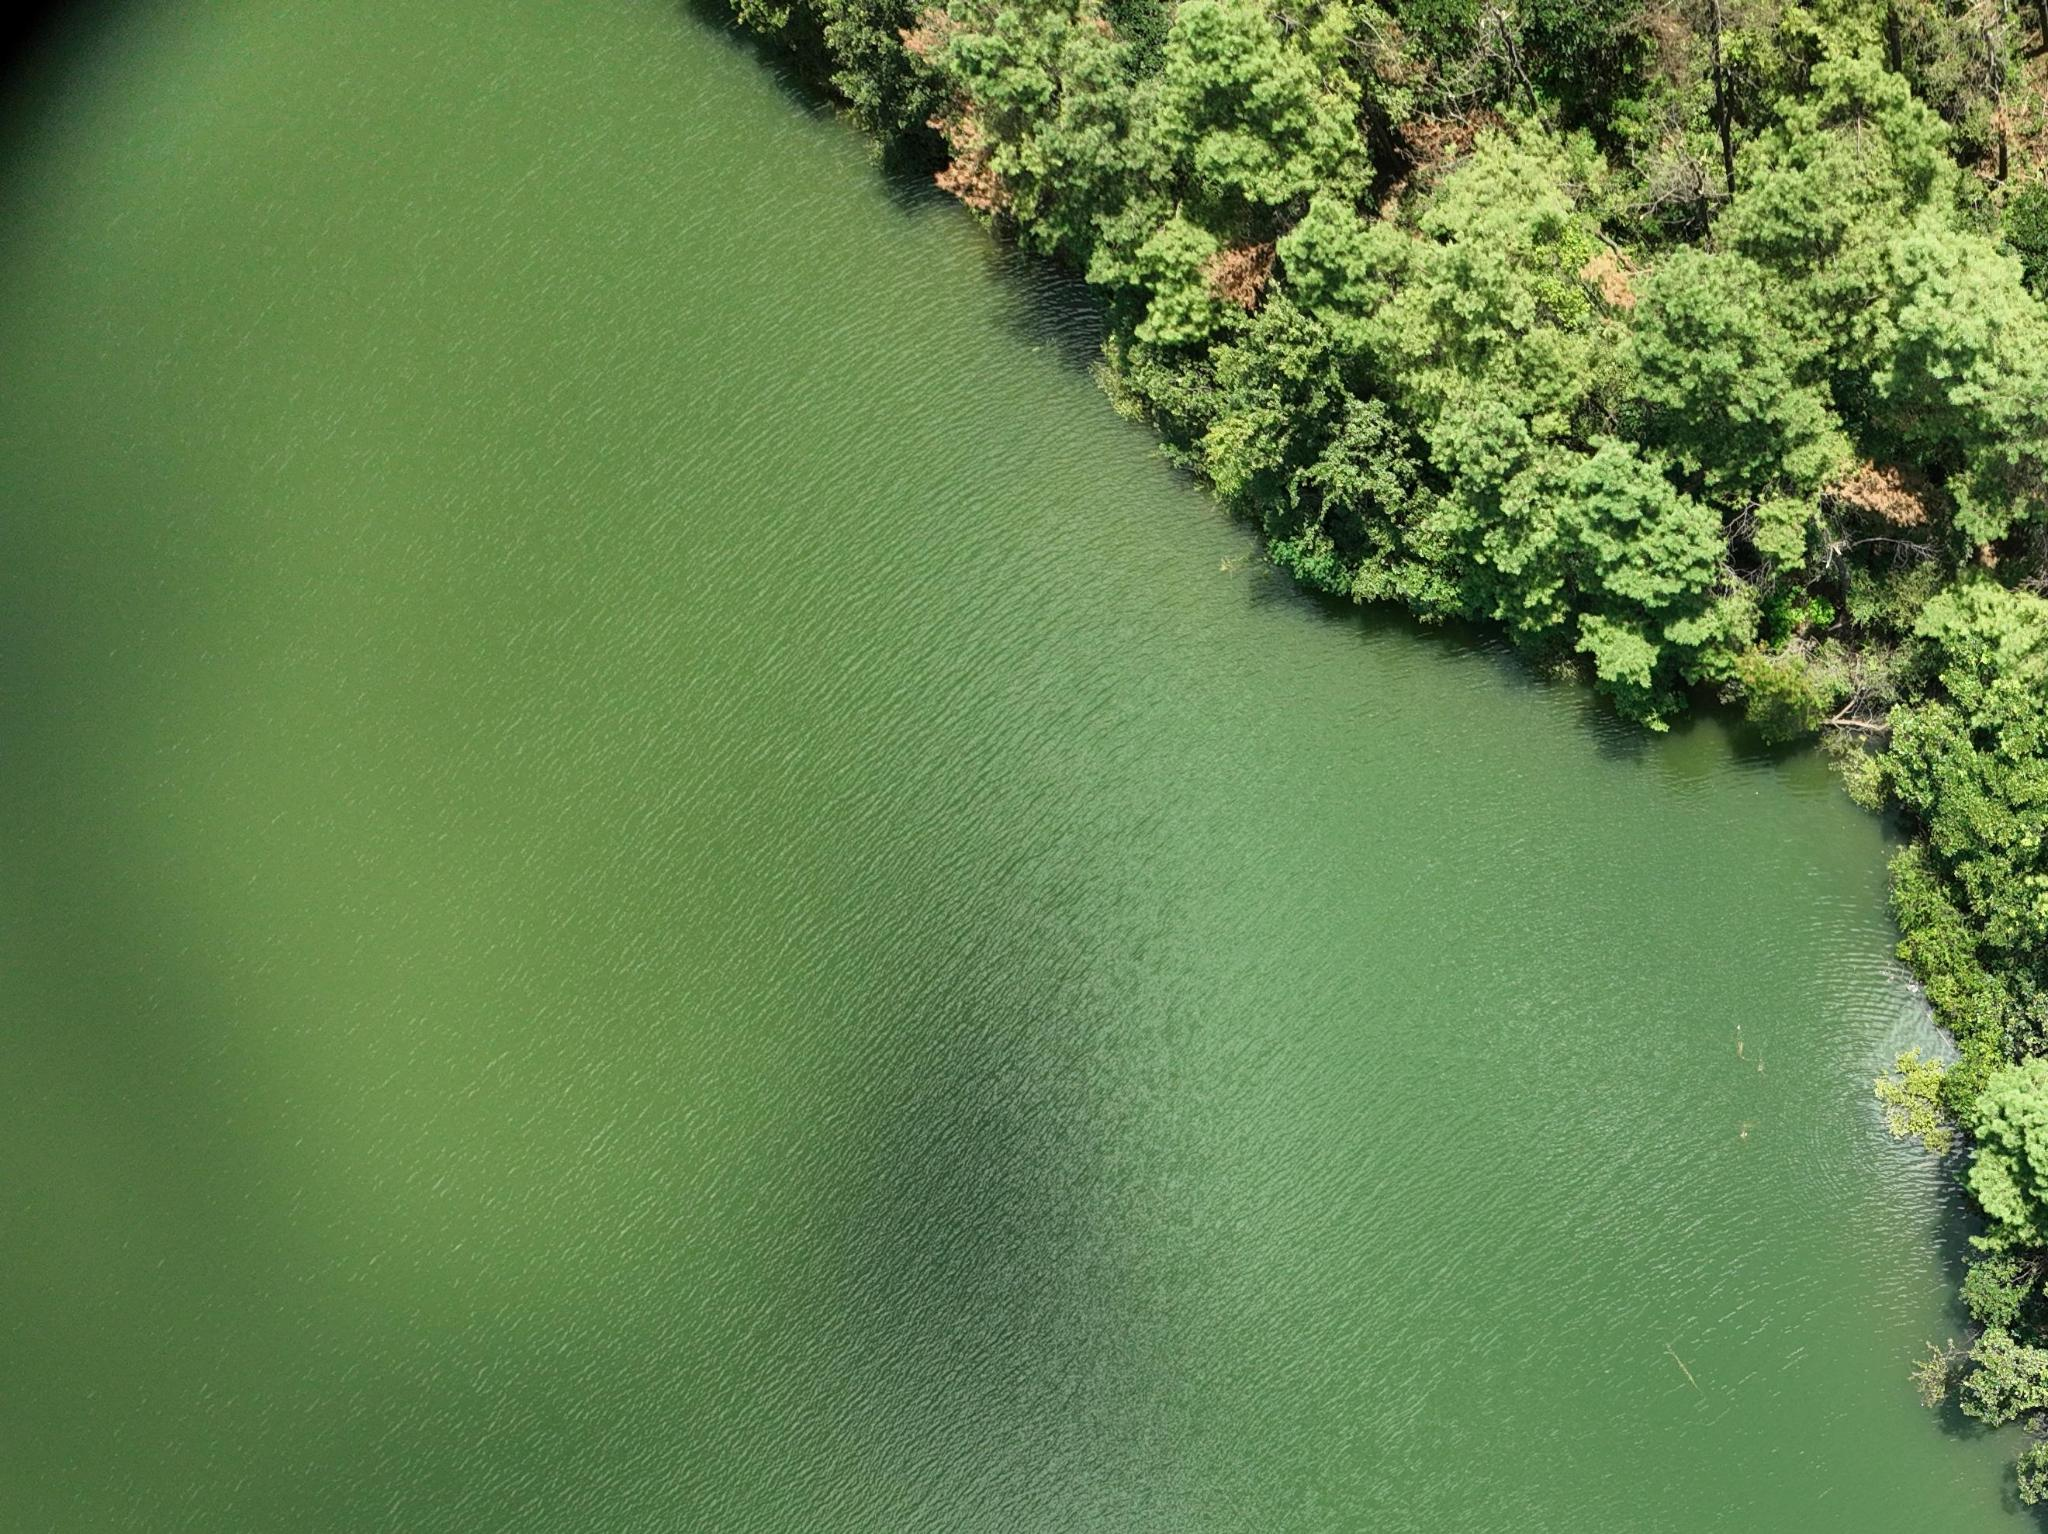heavy: (926, 107, 1004, 222), (1832, 456, 1924, 534), (1204, 241, 1274, 304), (896, 6, 958, 59)
